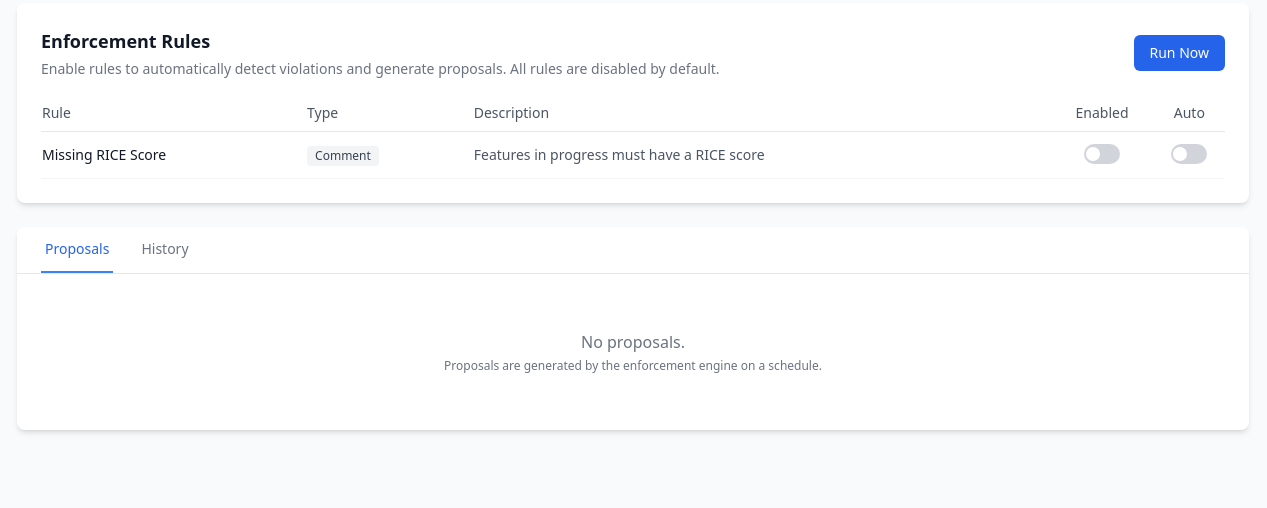
Scenario: HygieneEnforcementView — Proposal Status › History tab shows proposal outcomes › renders issue keys as links to Jira in history details
Step 1. Click the button "History" → coordinates (165, 250), box [137, 227, 192, 273]
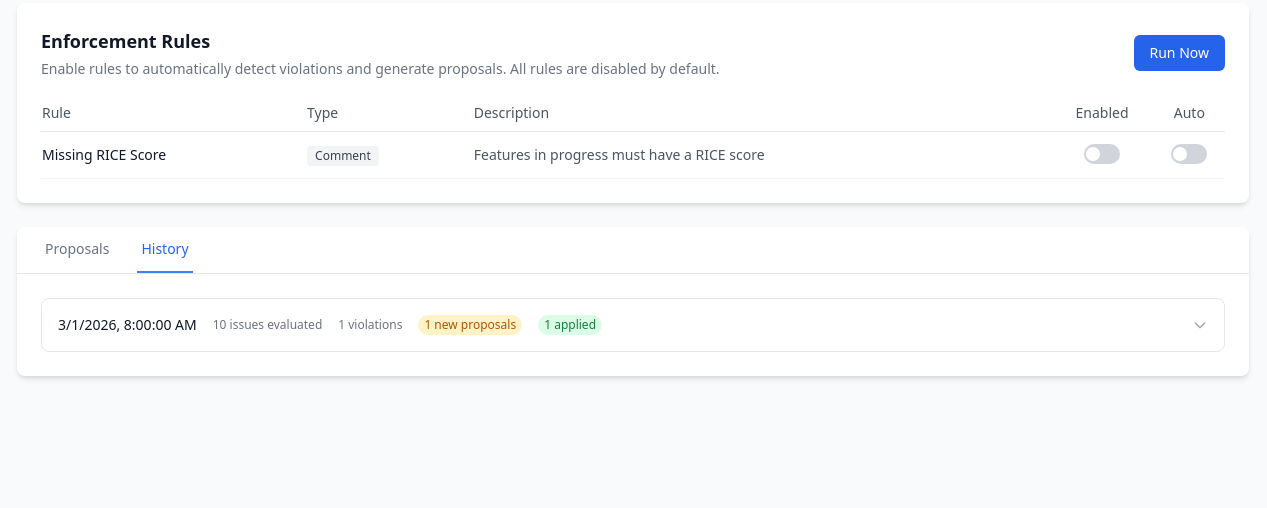
Now the text "10 issues evaluated" is shown, box [213, 317, 322, 333]
Step 2. Click the button with test id "history-run-toggle-0" → coordinates (127, 324), box [42, 299, 1224, 351]
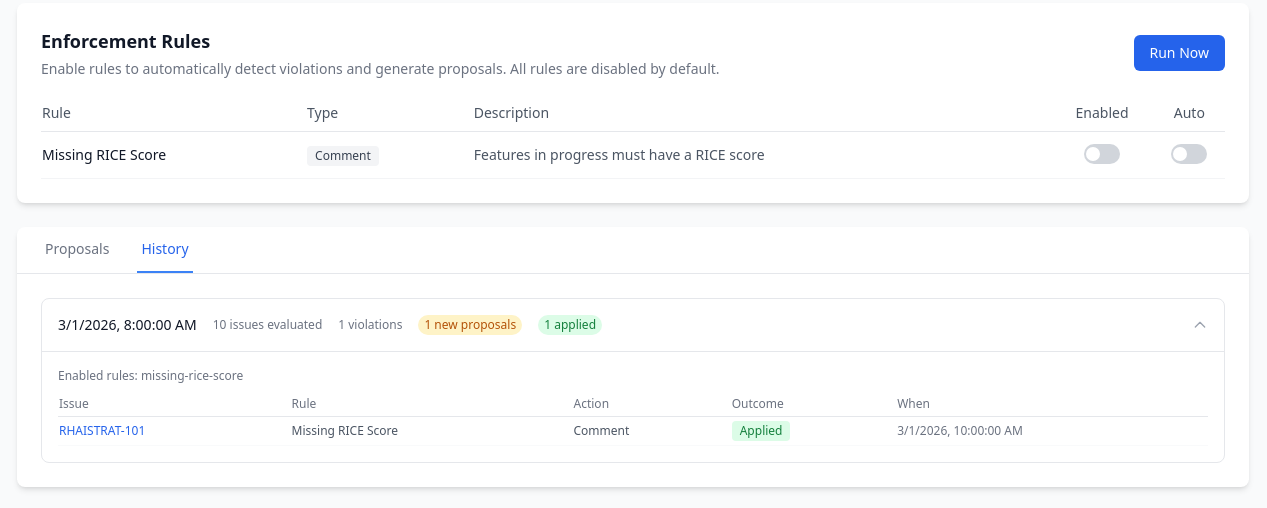
Now the text "RHAISTRAT-101" is shown, box [59, 422, 145, 439]
